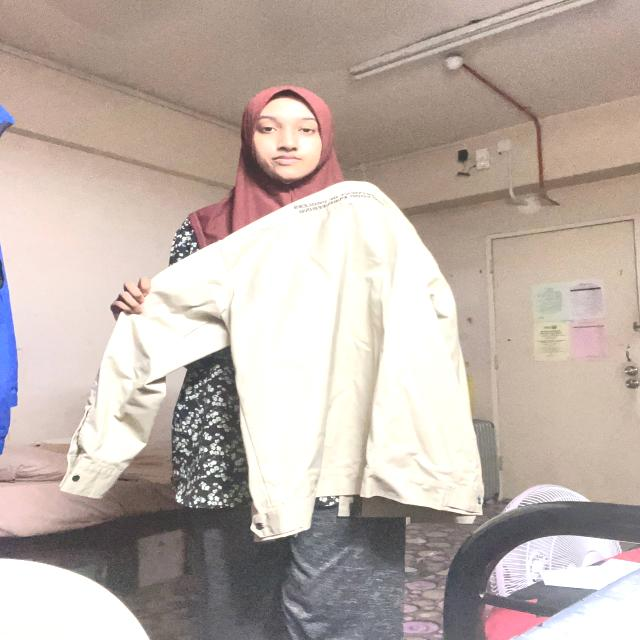person_without_labcoat: (61, 86, 483, 640), (0, 268, 275, 472)
